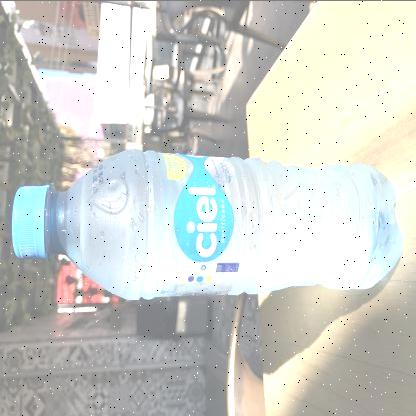Plastic Bottle: (12, 149, 403, 298)
